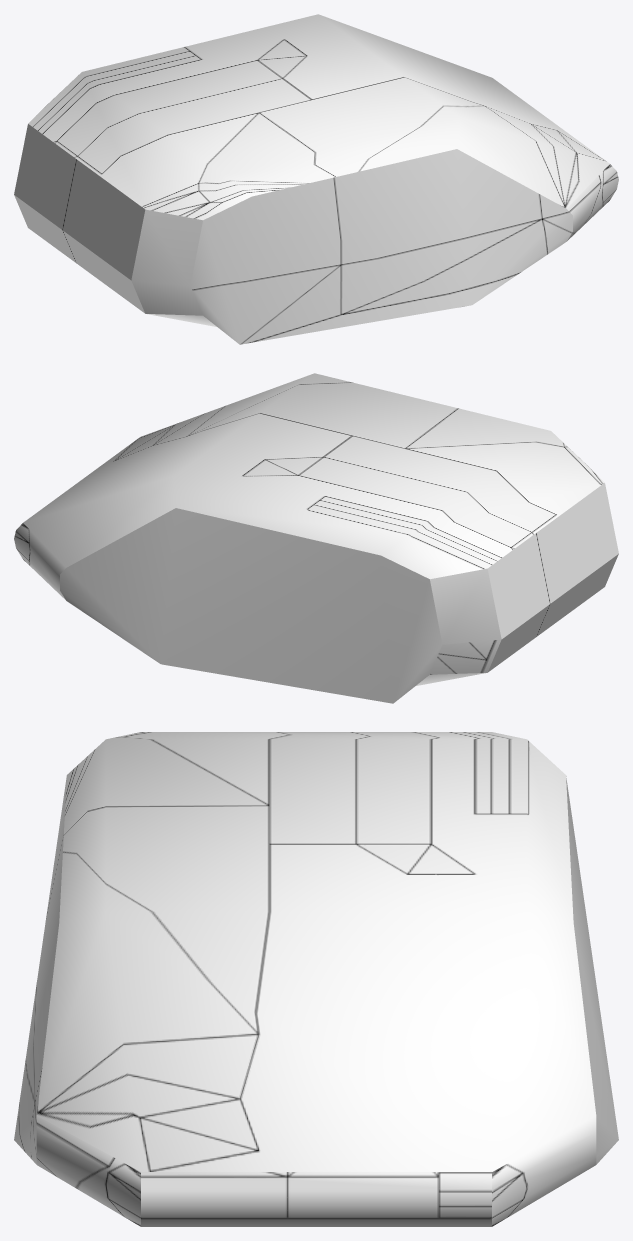
Rendered from multi_right_boot.obj.
3 views of the same model, one above another, from view 1: azimuth 30°, elevation 25°; view 2: azimuth 150°, elevation 25°; view 3: azimuth 270°, elevation 25° (orthographic). The views are drawn at different scales.
Parts seen in each view (by area): view 1: left_Cube_Cube.007; view 2: left_Cube_Cube.007; view 3: left_Cube_Cube.007.
Part boxes in pixels (x1,y1,x2,y2): left_Cube_Cube.007: (14, 14, 618, 344); left_Cube_Cube.007: (14, 373, 618, 703); left_Cube_Cube.007: (14, 732, 618, 1226).
Size of the model in its own units: 6.68 by 2.2 by 4.8.
